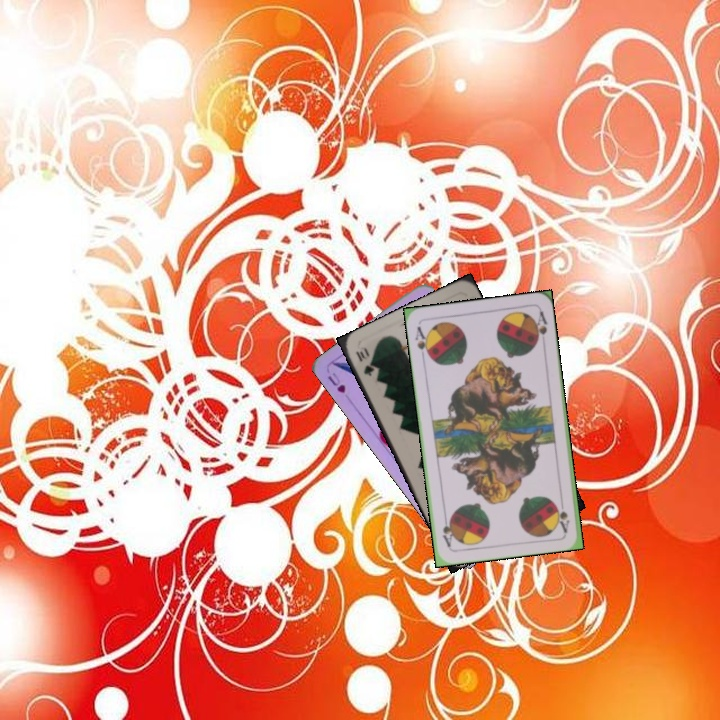G10: (352, 344, 377, 379)
HU: (323, 368, 348, 396)
SA: (411, 322, 433, 362), (554, 494, 572, 534)
